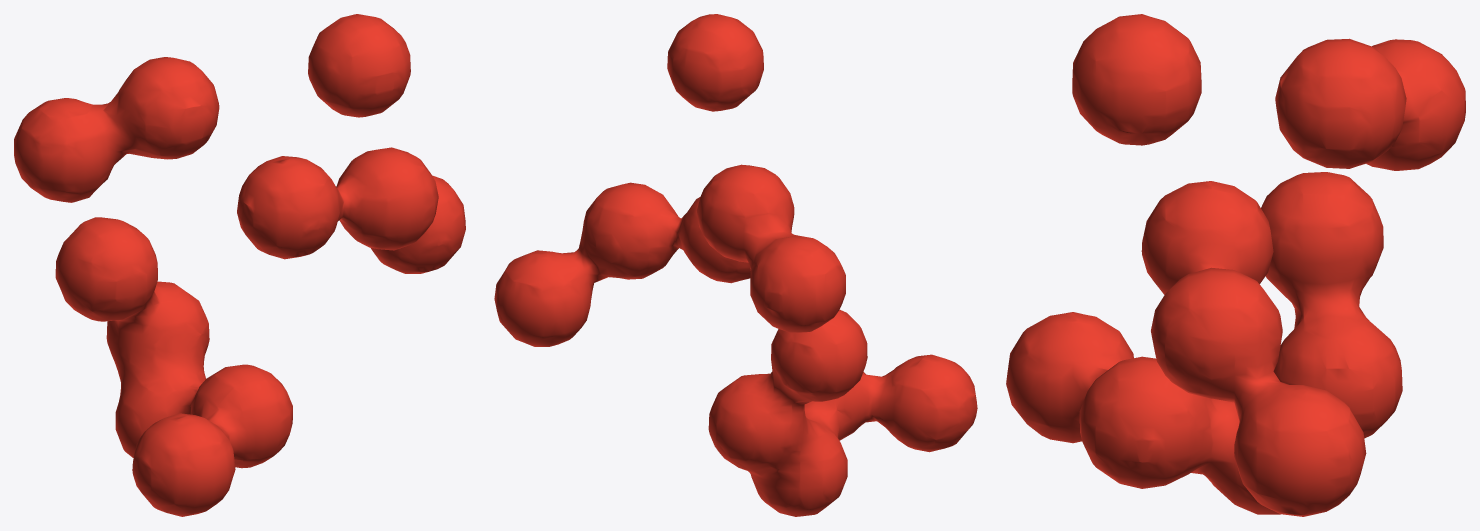
Rendered from Balls.glb.
3 views of the same model, side by side, from view 1: azimuth 30°, elevation 25°; view 2: azimuth 150°, elevation 25°; view 3: azimuth 270°, elevation 25° (orthographic). The views are drawn at different scales.
Parts seen in each view (by area): view 1: Mball.011; view 2: Mball.011; view 3: Mball.011.
Boxes of the visible parts, <box> form: Mball.011: <box>14,14,465,516</box>; Mball.011: <box>494,14,977,516</box>; Mball.011: <box>1006,14,1465,516</box>.
Bounding box in the file's own units: 15.73 × 16.5 × 11.98.
